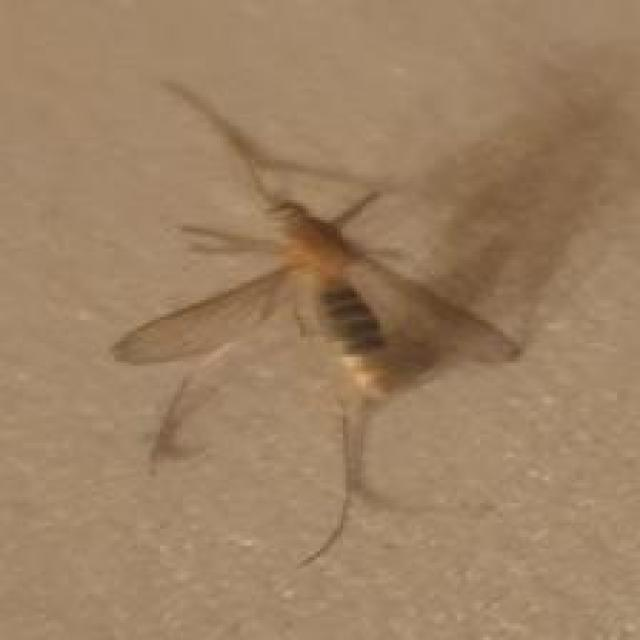Culex: (107, 76, 527, 570)
